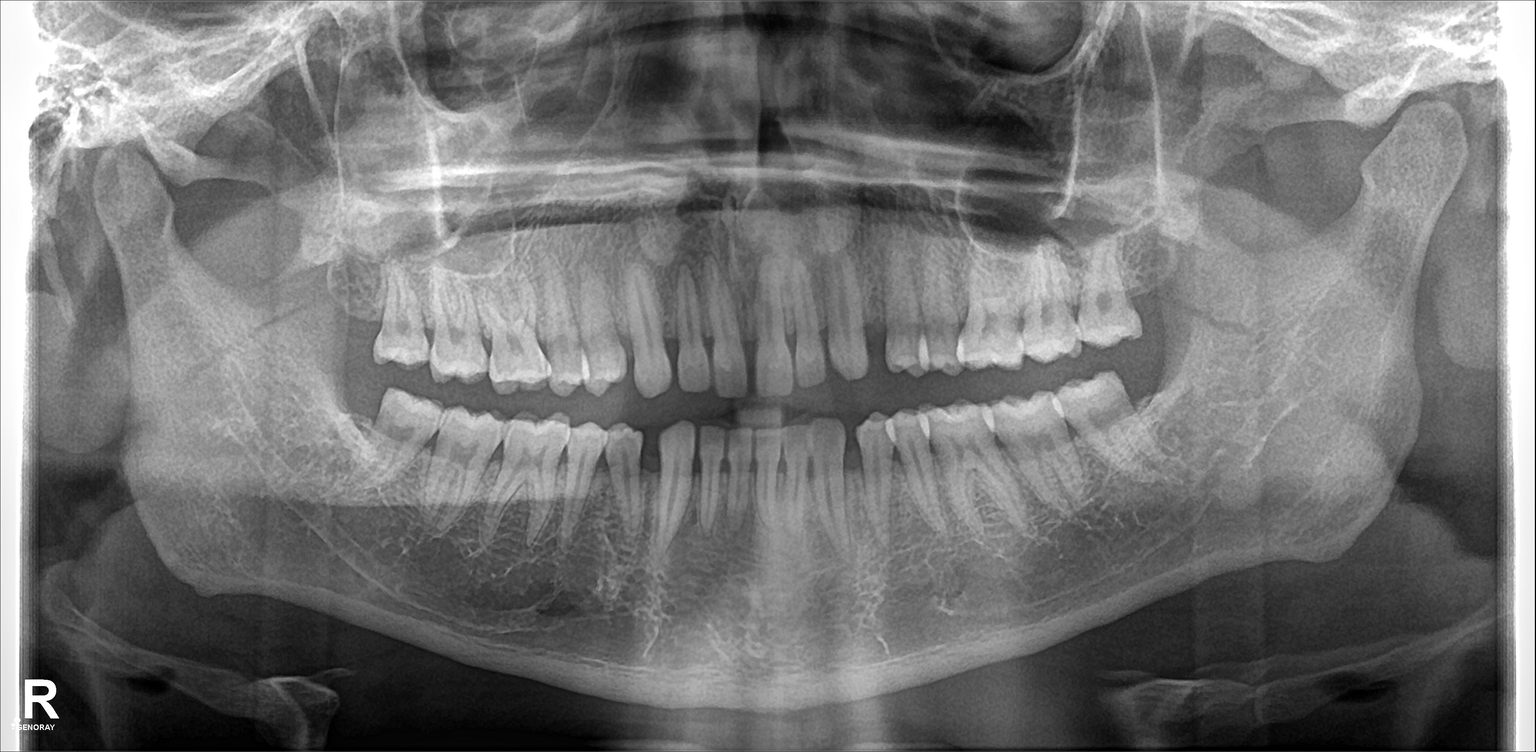Missing Tooth: (328, 246, 380, 350), (330, 383, 381, 475), (1142, 225, 1177, 328), (1142, 361, 1177, 436)
